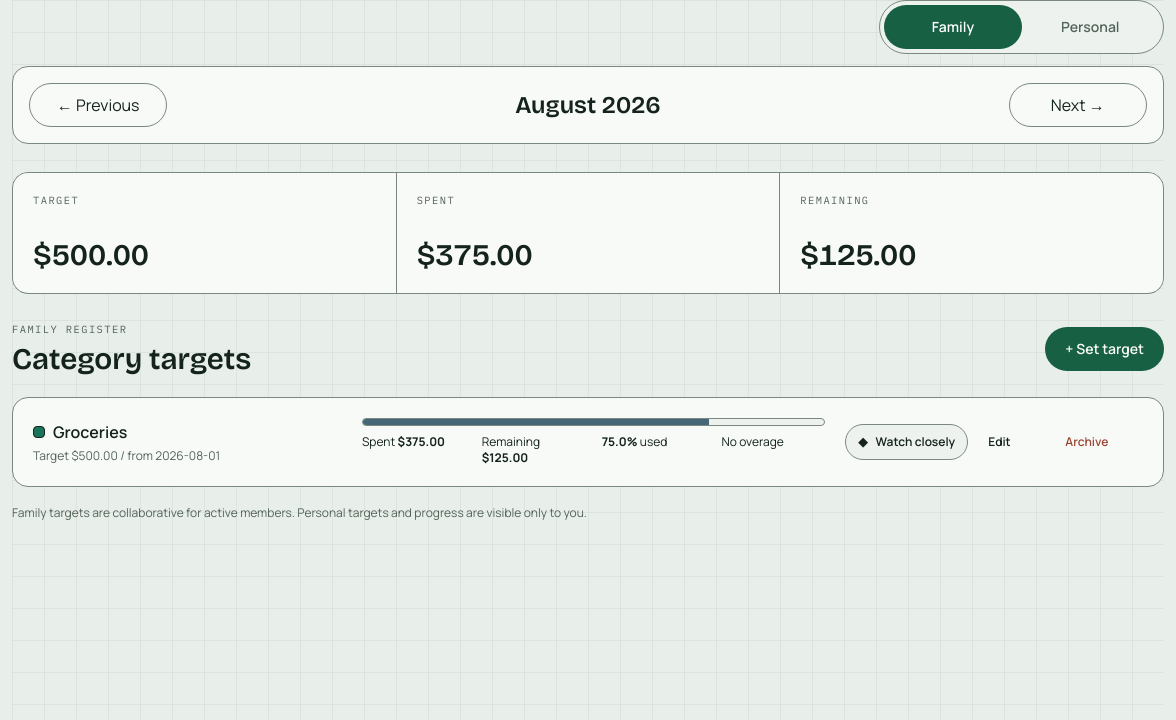
Test: GH-10 monthly budget workbench acceptance › FE-004 closes a committed form and preserves the last model when only refresh fails
Click the button with test id "budget-create" at (1105, 349), box x1=1045 y1=327 x2=1164 y2=371
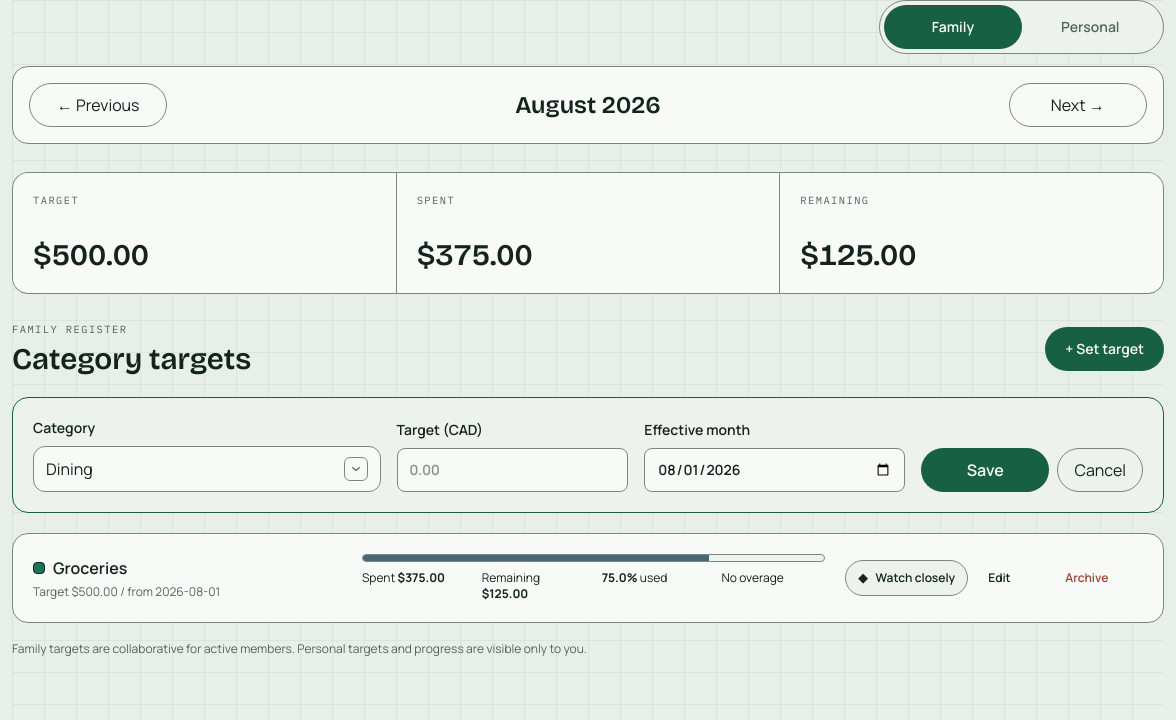
Click the dropdown with test id "budget-category" at (69, 469), box x1=33 y1=446 x2=381 y2=492
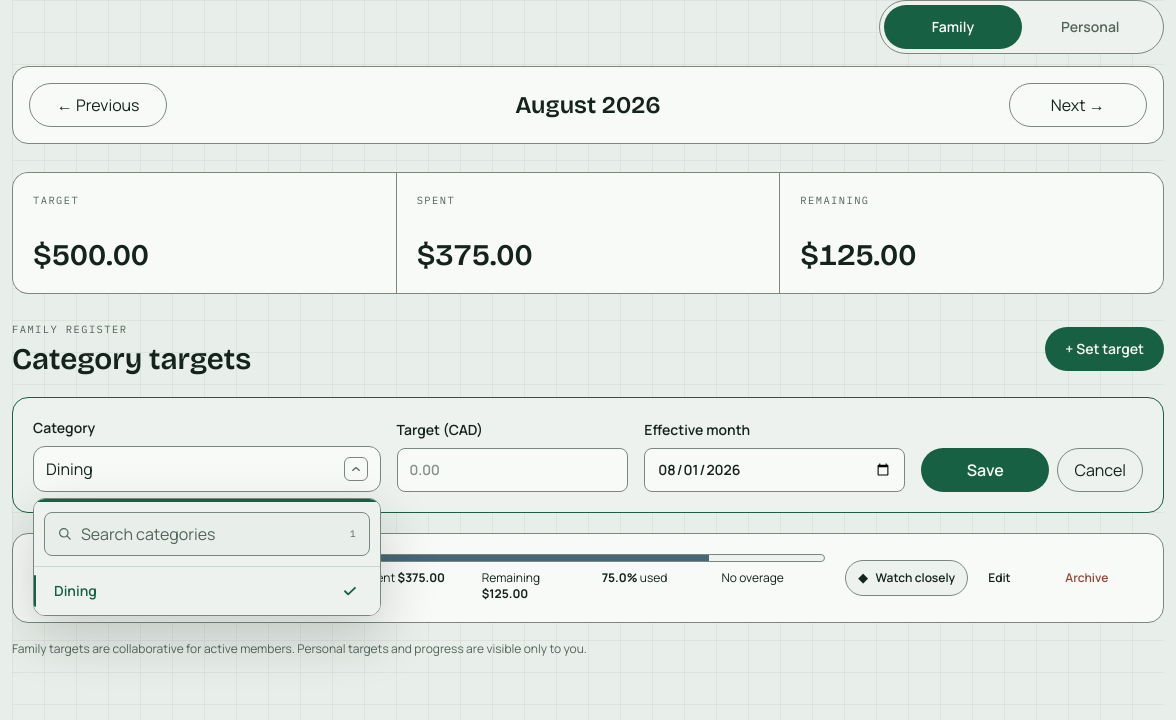
Click the option "Dining" at (75, 591), box x1=34 y1=567 x2=380 y2=615
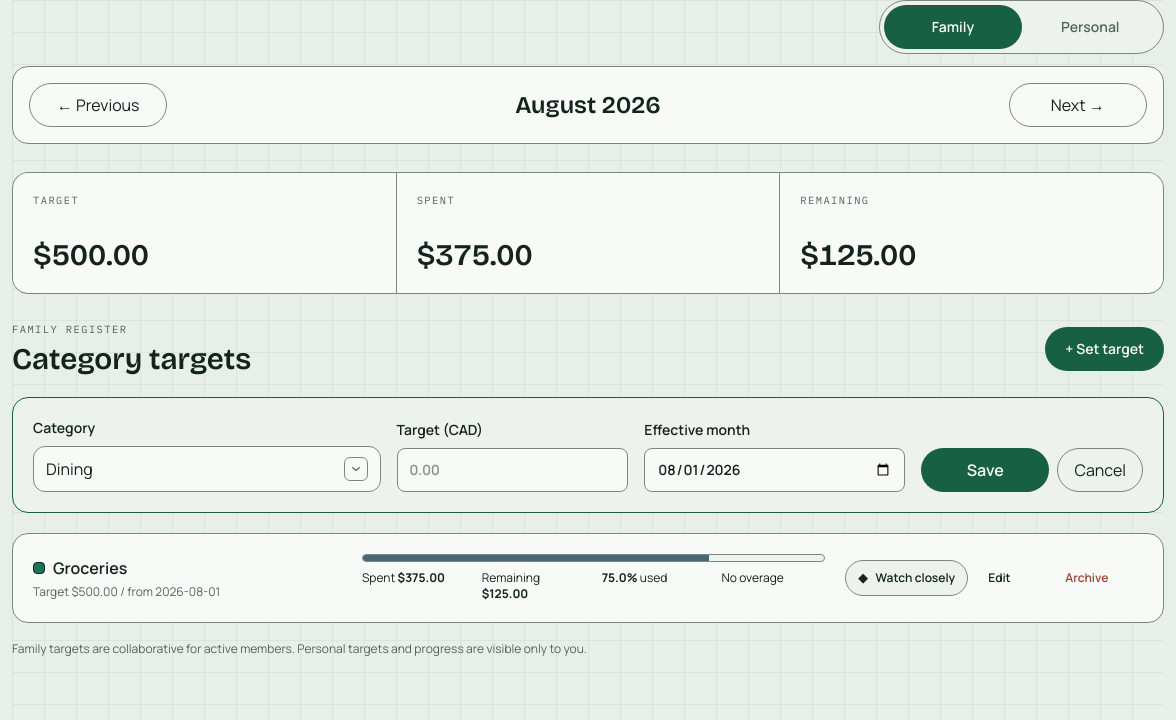
Type "432.10" into the field with test id "budget-amount" at (512, 470), box x1=397 y1=448 x2=628 y2=492
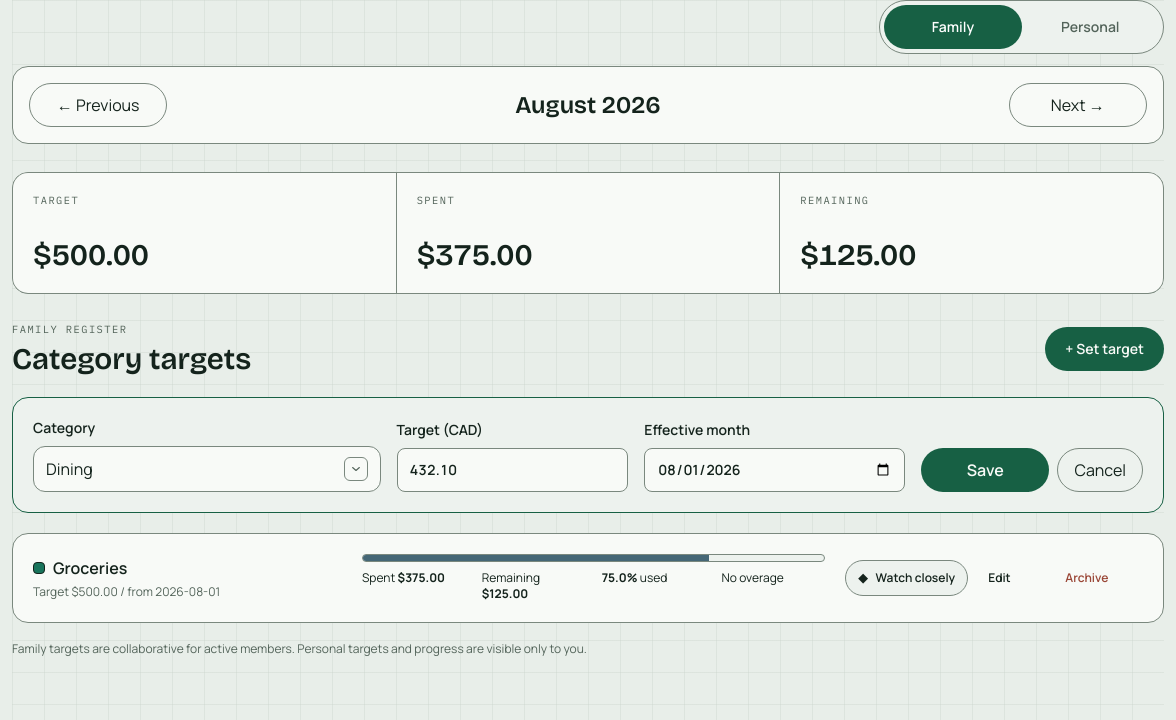
Type "2026-09-01" into the date field with test id "budget-effective-month" at (775, 470), box x1=644 y1=448 x2=905 y2=492
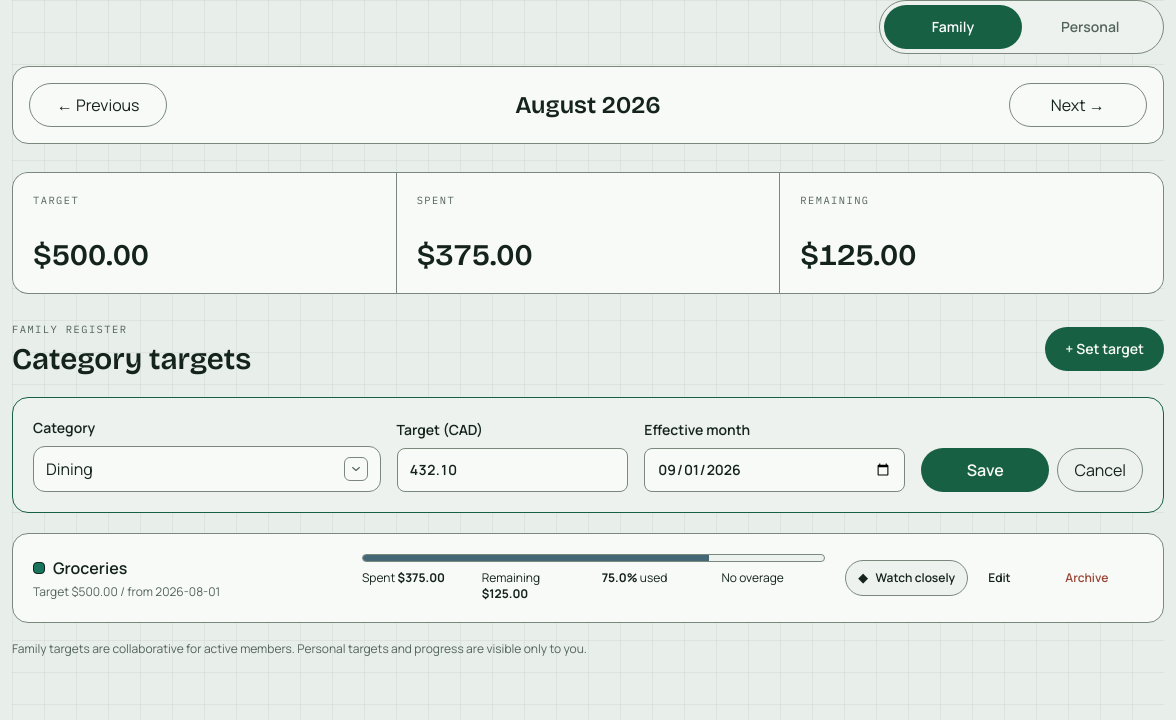
Click the button with test id "budget-save" at (985, 470), box x1=921 y1=448 x2=1050 y2=492
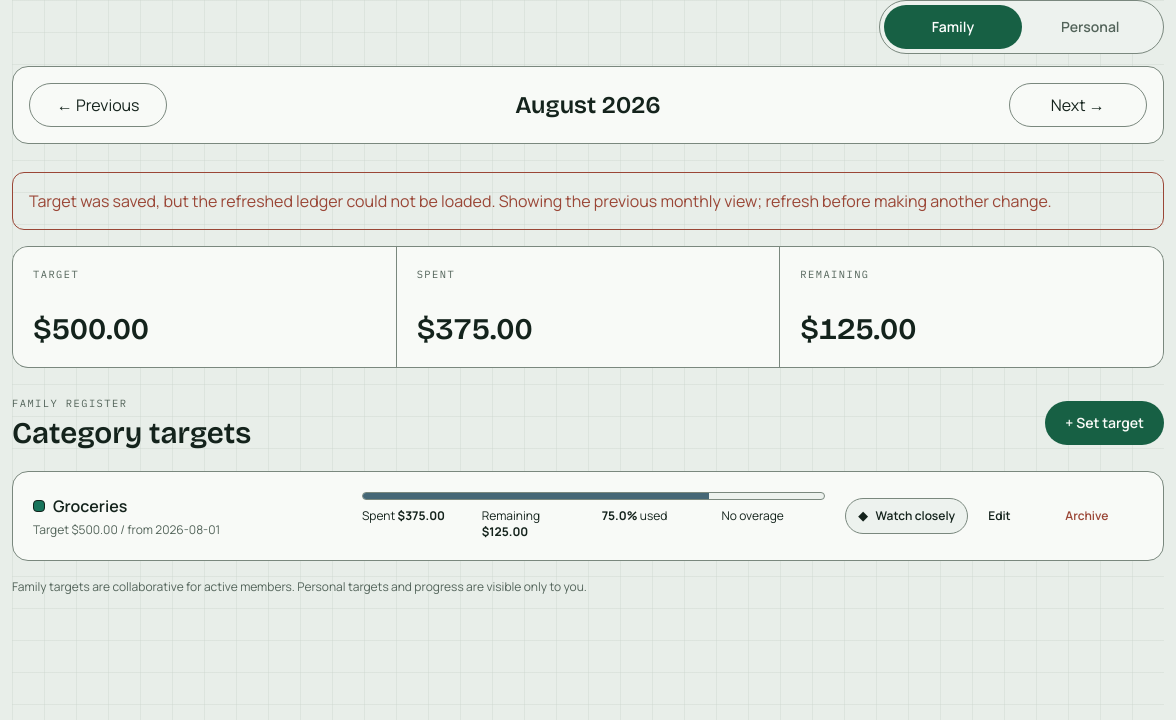
expect the element with test id "budget-target-list" shows "Groceries": met, box x1=53 y1=495 x2=127 y2=517
expect the form with test id "budget-form" is gone: met
expect the element with test id "budget-target-list" no longer shows "Dining": met, box x1=12 y1=471 x2=1164 y2=561
